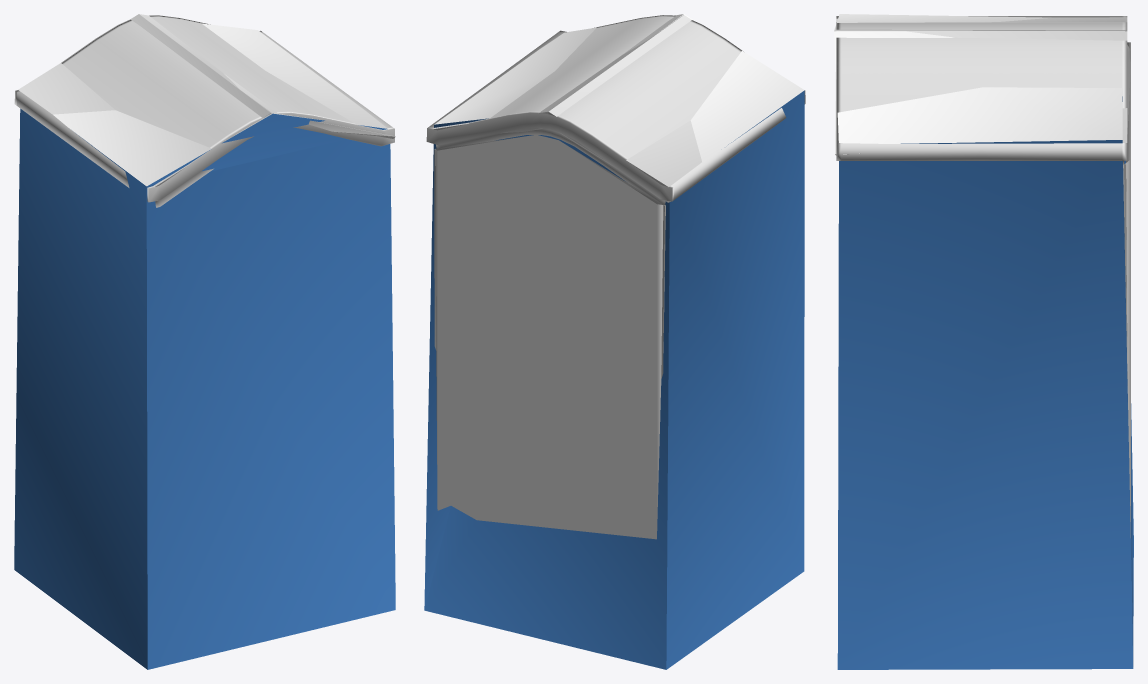
The model's file is toilet.dae.
The picture shows the model from 3 angles, left to right: view 1: azimuth 30°, elevation 25°; view 2: azimuth 150°, elevation 25°; view 3: azimuth 270°, elevation 25°; orthographic projection. The views are drawn at different scales.
Parts seen in each view (by area): view 1: Colmesh-1, toilet_a100, toilet_a050; view 2: toilet_a100, Colmesh-1, toilet_a050; view 3: Colmesh-1, toilet_a100, toilet_a050.
Part boxes in pixels (x1,y1,x2,y2): Colmesh-1: (14,23,395,669); toilet_a100: (14,15,394,207); toilet_a050: (18,14,395,187); toilet_a100: (426,15,805,539); Colmesh-1: (424,14,804,669); toilet_a050: (432,15,701,378); Colmesh-1: (834,14,1133,669); toilet_a100: (836,16,1130,537); toilet_a050: (835,17,1130,378).
Size of the model in its own units: 1.21 by 1.16 by 2.46.
